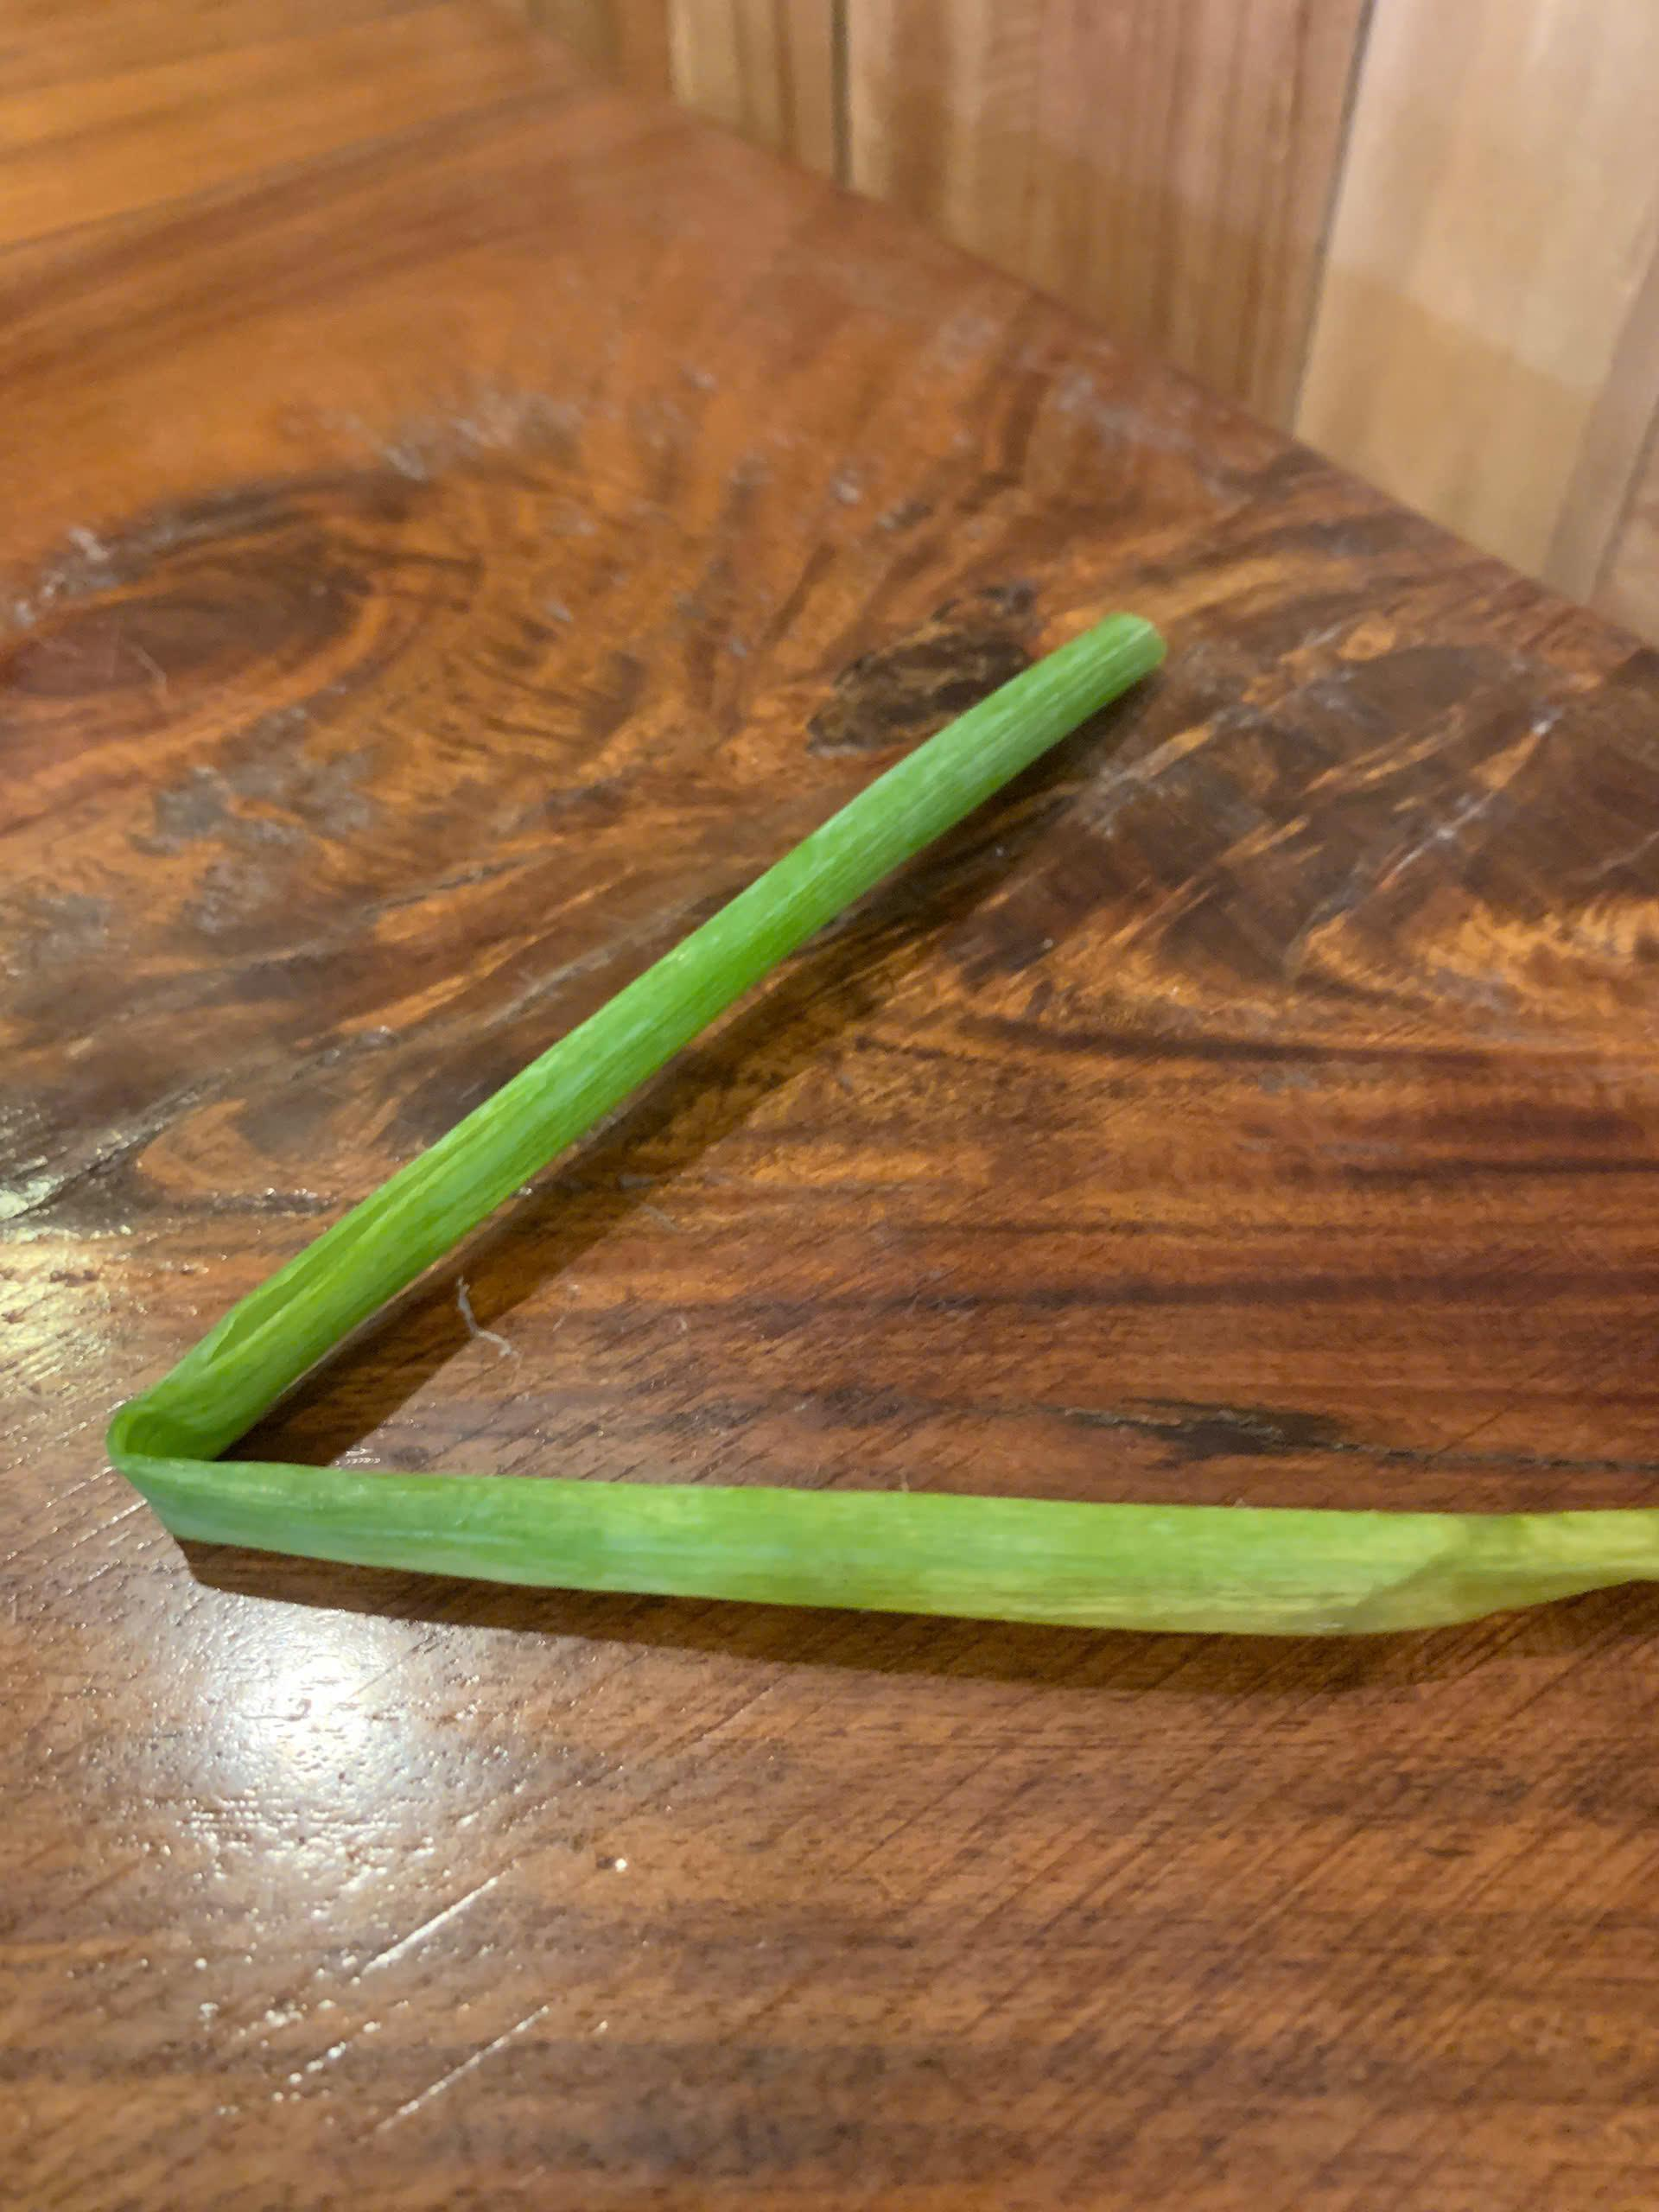Huu co: (120, 627, 1659, 1632)
